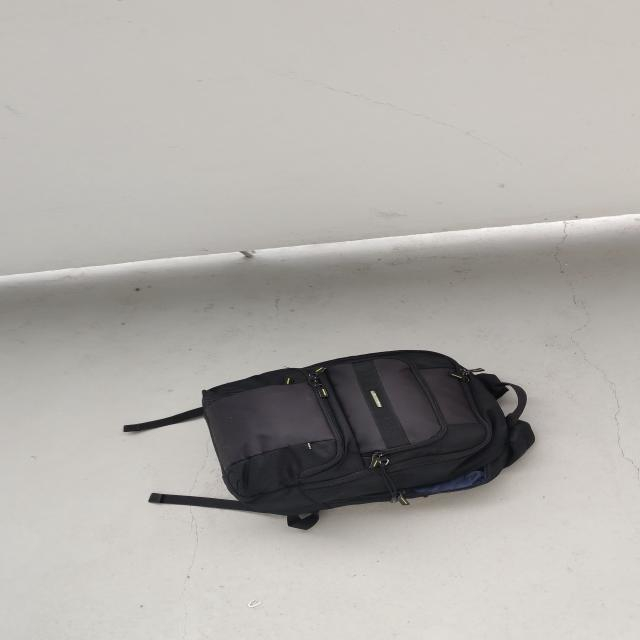backpack: (190, 344, 546, 526)
